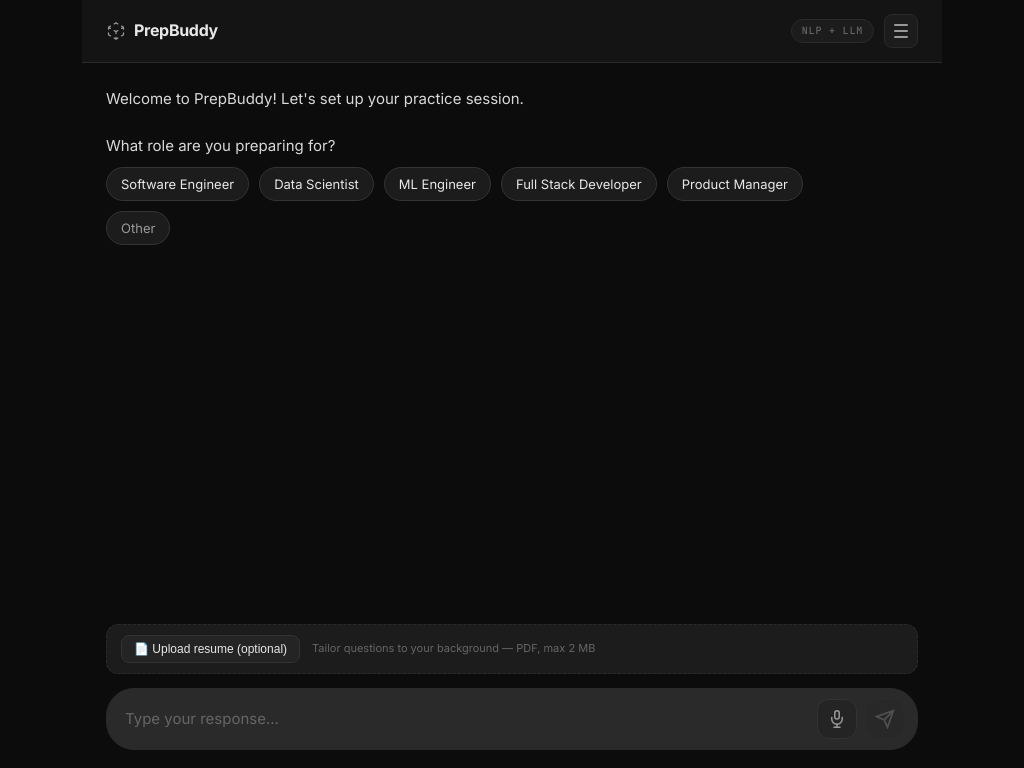
Scenario: App setup quick replies › clicking Other switches setup input to custom role entry
This screenshot has width=1024, height=768.
What coordinates should you click on to do the following:
click the button "Other"
I would click on:
 (138, 228)
Its box is 106,211 -> 170,245.
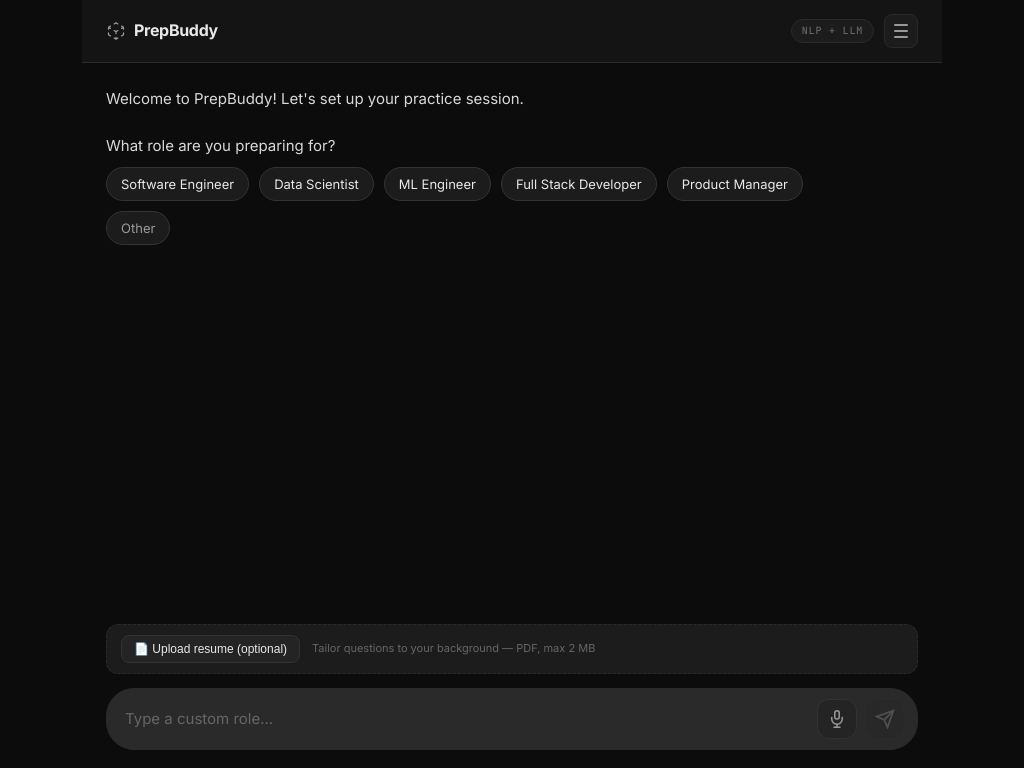
Result: the text box with placeholder "Type a custom role..." is shown at 123,701 -> 809,737
